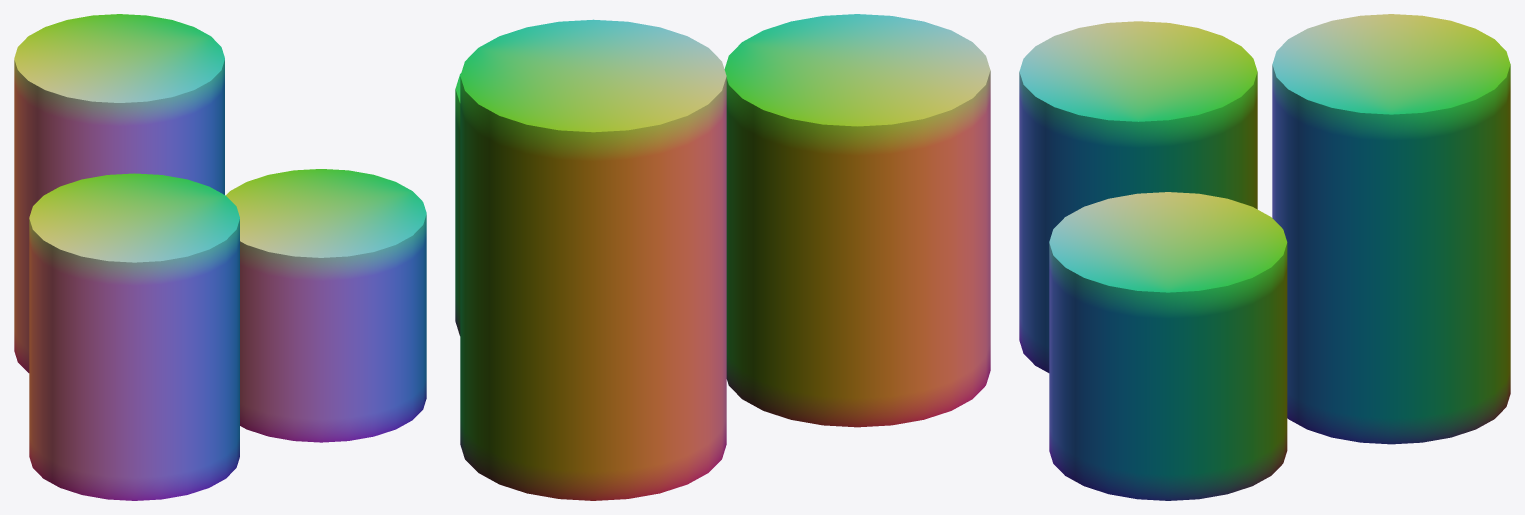
The model's file is wall_chips.fbx.
3 renders of one model, left to right at view 1: azimuth 30°, elevation 25°; view 2: azimuth 150°, elevation 25°; view 3: azimuth 270°, elevation 25°, orthographic. The views are drawn at different scales.
Visible parts, largest first — view 1: wall_chips; view 2: wall_chips; view 3: wall_chips.
Part boxes in pixels (x1,y1,x2,y2): wall_chips: [14, 14, 426, 500]; wall_chips: [455, 14, 990, 500]; wall_chips: [1019, 14, 1510, 500].
Size of the model in its own units: 0.67 by 0.489 by 0.66.
